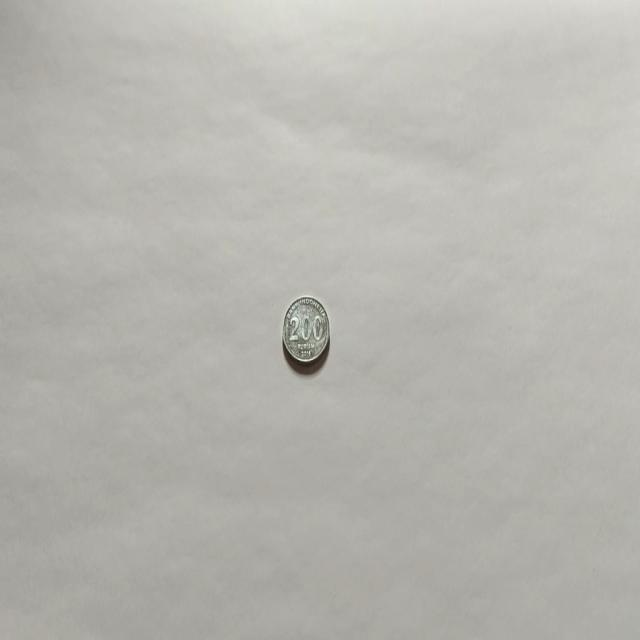dua ratus rupiah: (281, 294, 330, 369)
